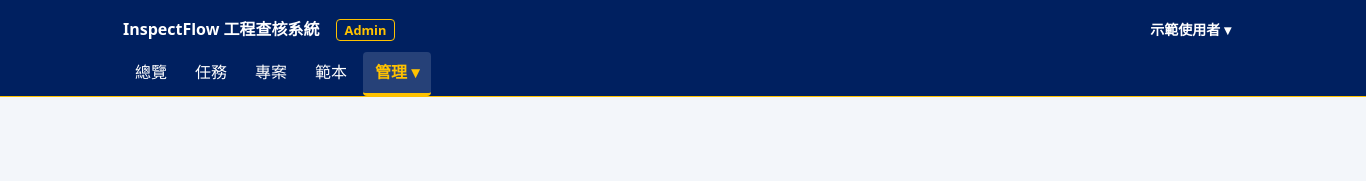
AppHeader › 系統管理者 看得到清楚的個人選單按鈕
The image size is (1366, 181).
What coordinates should you click on to do the following:
click the button "示範使用者 ▾"
I would click on:
 (1191, 30)
Its box is [1138,14,1243,46].
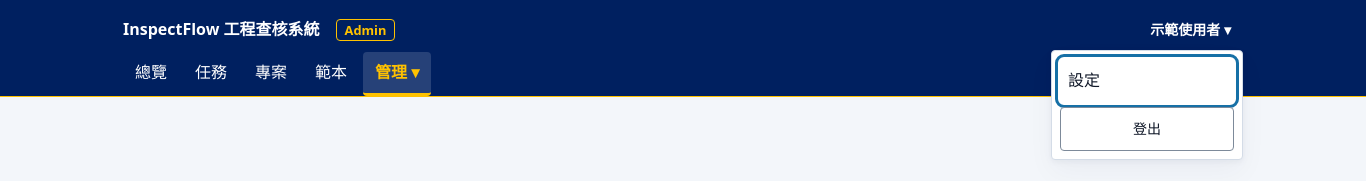
Check: the link "設定" is shown, box [1068,69,1100,91]
Check: the button "登出" is shown, box [1060,107,1234,151]
